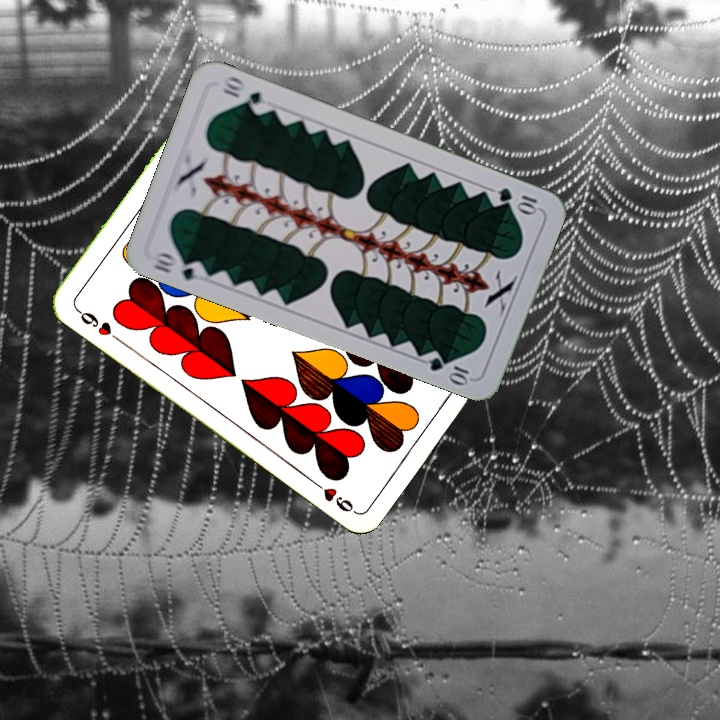G10: (148, 247, 208, 283), (494, 183, 540, 216)
H9: (71, 303, 122, 344)
